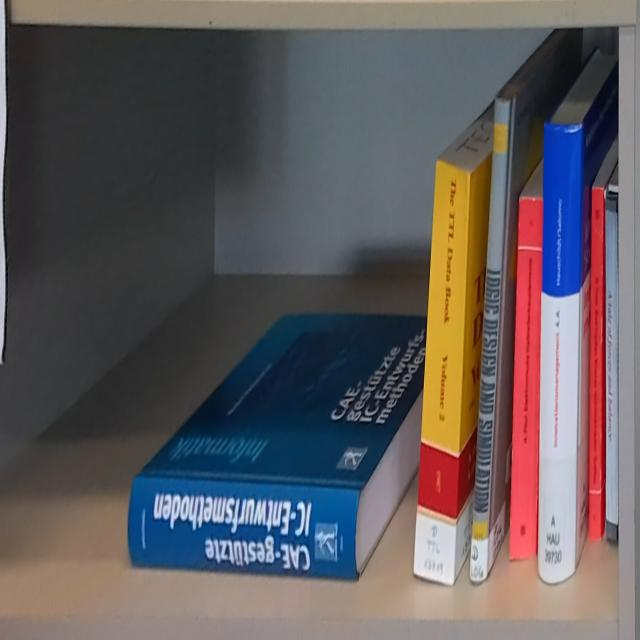Book Spine: (412, 159, 472, 587), (127, 476, 362, 580), (536, 122, 581, 588), (469, 96, 511, 585), (509, 196, 543, 560), (588, 187, 602, 541), (606, 197, 618, 546)
